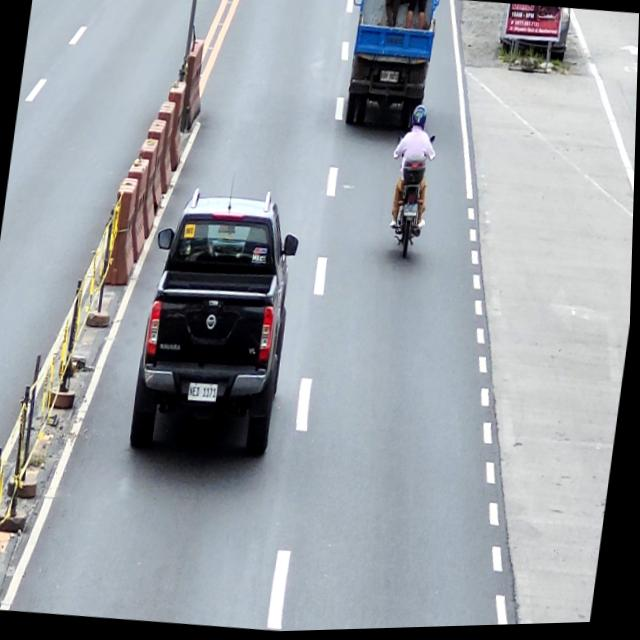Car: (131, 182, 307, 460)
License-Plate: (189, 384, 220, 404), (380, 71, 399, 86), (404, 205, 420, 220)
Motorcycle: (383, 135, 435, 261)
Truck: (334, 0, 441, 138)
